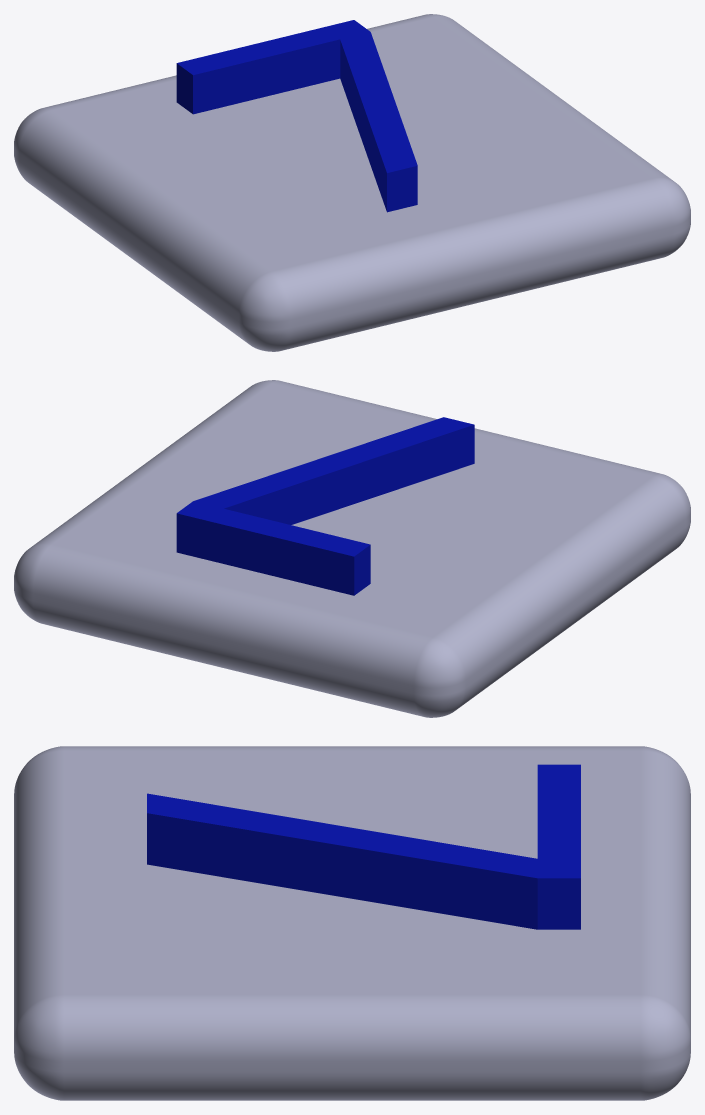
The model's file is button7.glb.
3 renders of one model, top to bottom at view 1: azimuth 30°, elevation 25°; view 2: azimuth 150°, elevation 25°; view 3: azimuth 270°, elevation 25°, orthographic. The views are drawn at different scales.
Parts seen in each view (by area): view 1: Box, 3D Text - 7; view 2: Box, 3D Text - 7; view 3: Box, 3D Text - 7.
Part boxes in pixels (<box>): Box: <box>14,14,690,351</box>; 3D Text - 7: <box>176,20,417,212</box>; Box: <box>14,380,690,717</box>; 3D Text - 7: <box>176,417,474,595</box>; Box: <box>14,746,690,1100</box>; 3D Text - 7: <box>147,764,580,929</box>.
Size of the model in its own units: 0.1 by 0.0249 by 0.1.
